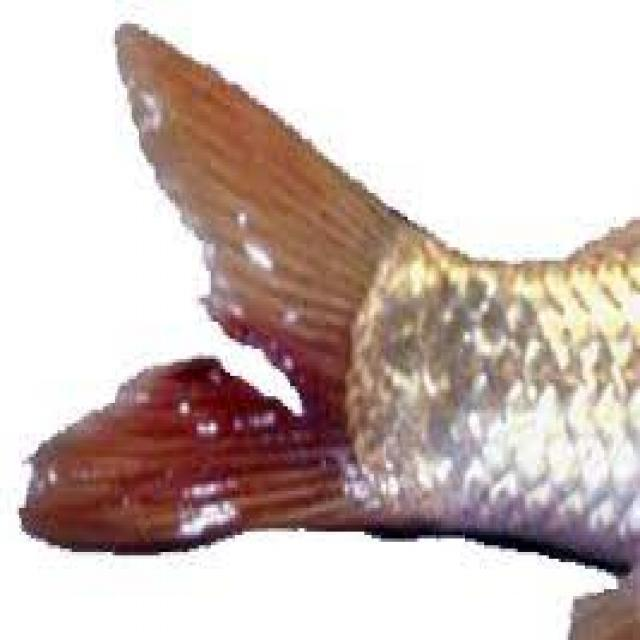EUS Disease: (24, 10, 640, 640)
